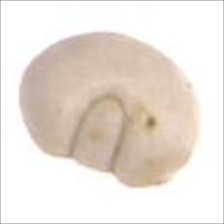L5: (66, 90, 131, 175)
L6: (16, 29, 200, 190)
